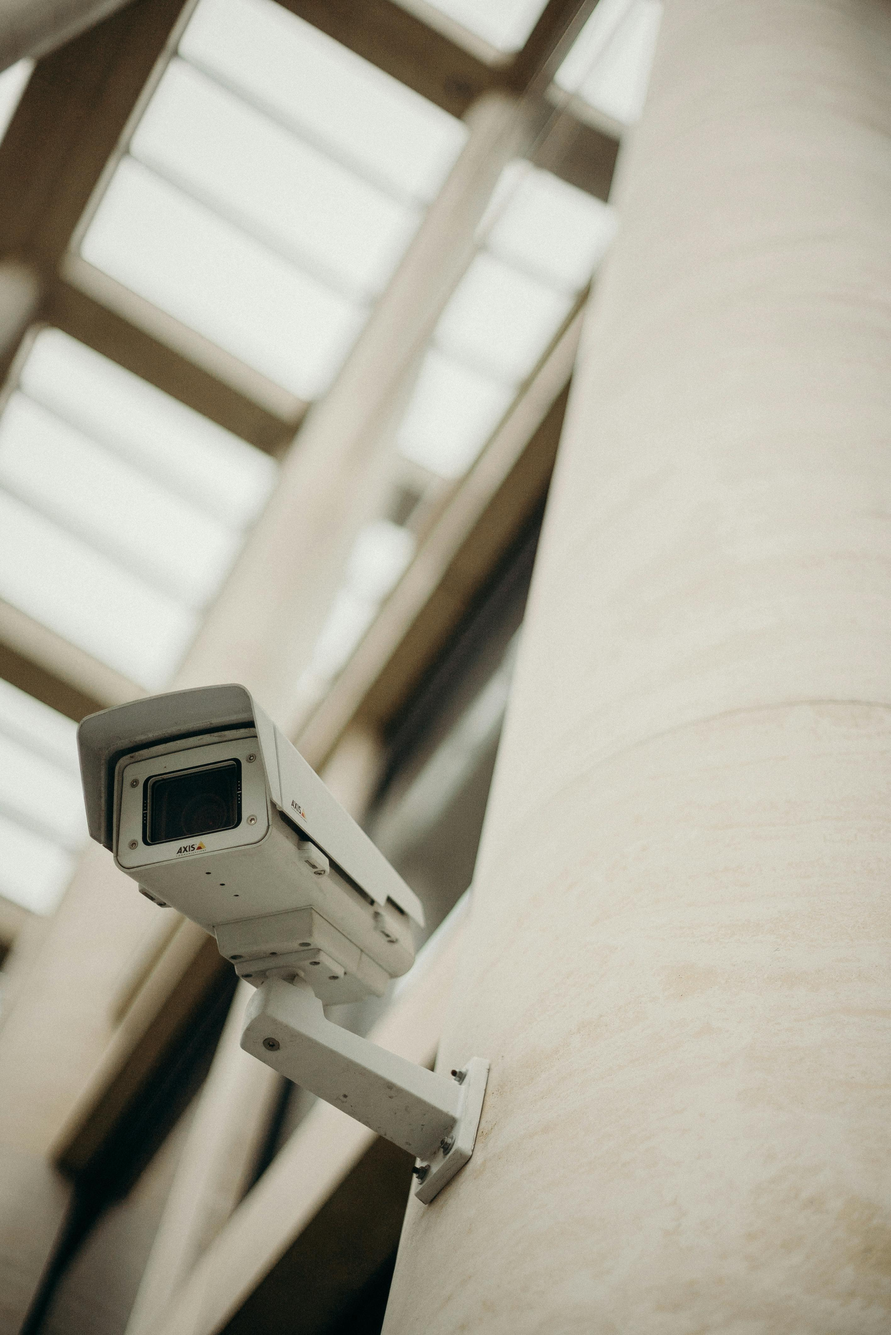camera: (47, 623, 434, 1096)
